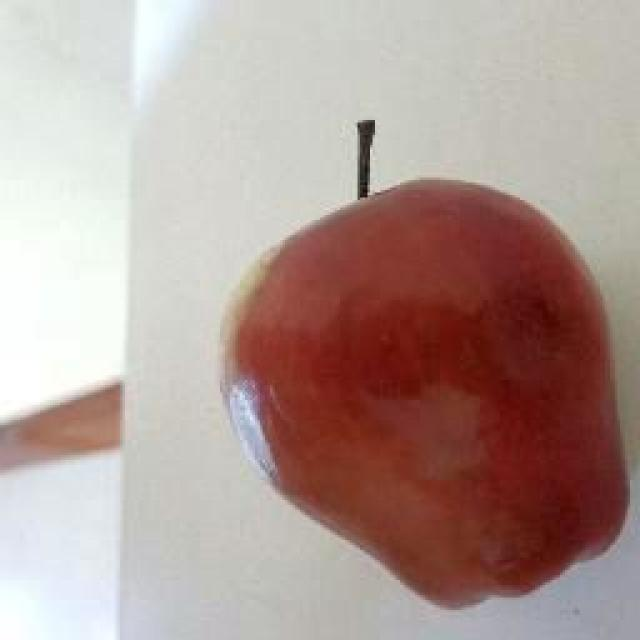Good_Apple: (218, 180, 632, 615)
